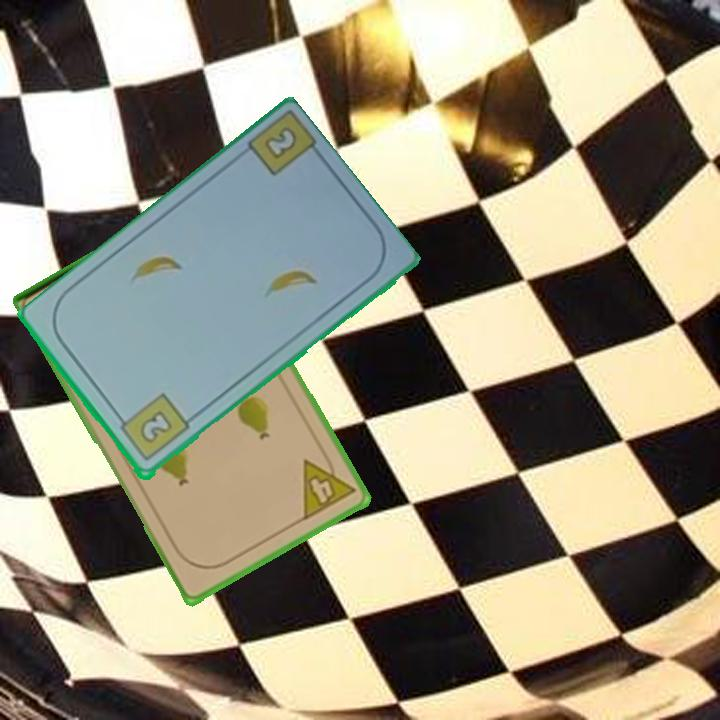2b: (113, 390, 192, 465), (264, 126, 297, 160)
4p: (299, 446, 358, 524)
